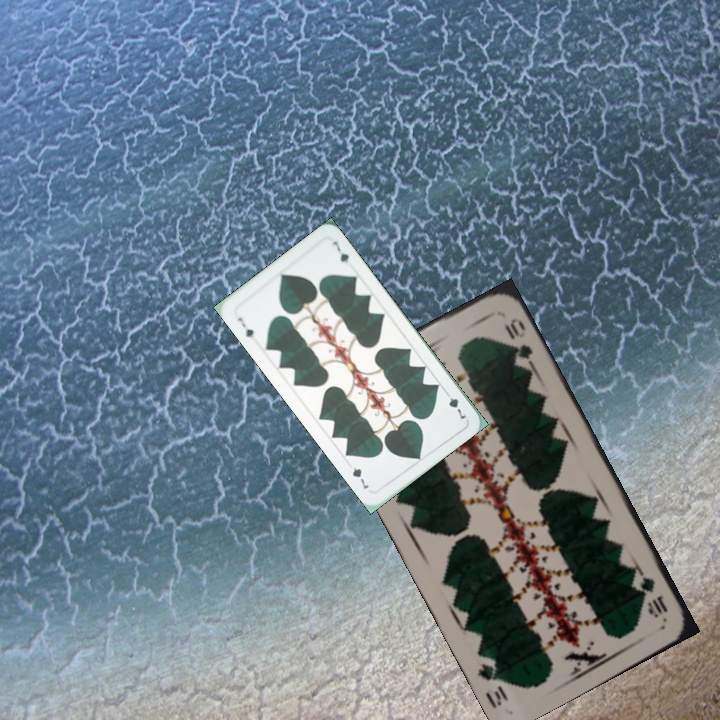G10: (630, 566, 671, 620)
G7: (440, 386, 469, 423), (233, 313, 257, 341)
